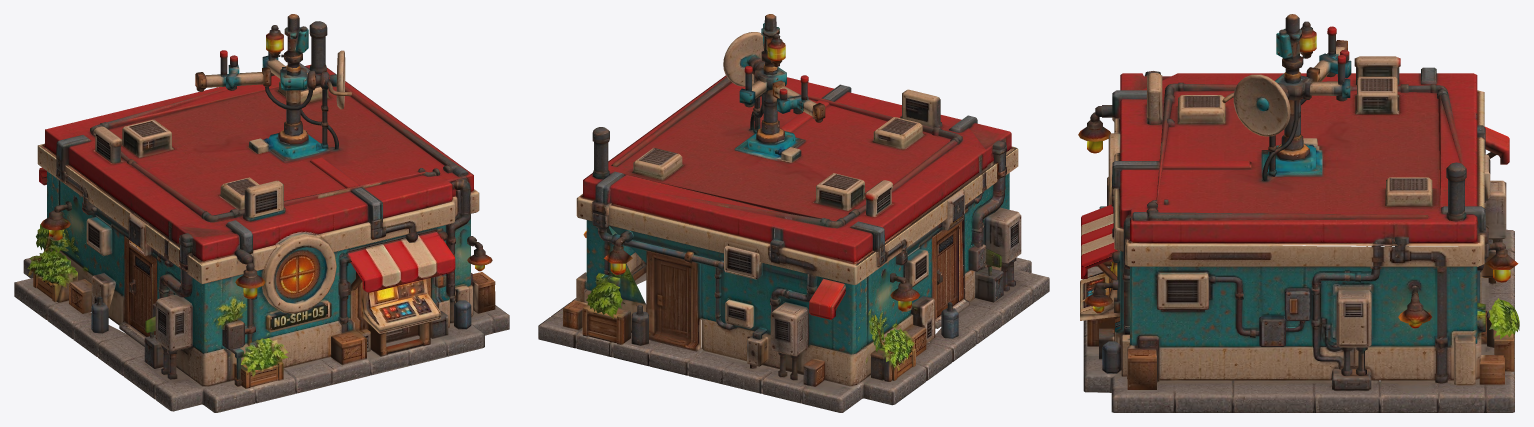
Rendered from steampunk-shop.glb.
3 views of the same model, side by side, from view 1: azimuth 30°, elevation 25°; view 2: azimuth 150°, elevation 25°; view 3: azimuth 270°, elevation 25° (orthographic). The views are drawn at different scales.
Visible parts, largest first — view 1: tripo_node_8d4a2567-f401-4543-9d5c-63c96f389cf6; view 2: tripo_node_8d4a2567-f401-4543-9d5c-63c96f389cf6; view 3: tripo_node_8d4a2567-f401-4543-9d5c-63c96f389cf6.
Boxes of the visible parts, left/top/right/bottom form: tripo_node_8d4a2567-f401-4543-9d5c-63c96f389cf6: left=14, top=14, right=509, bottom=412; tripo_node_8d4a2567-f401-4543-9d5c-63c96f389cf6: left=538, top=14, right=1049, bottom=412; tripo_node_8d4a2567-f401-4543-9d5c-63c96f389cf6: left=1078, top=14, right=1519, bottom=412.
Size of the model in its own units: 0.9927 by 0.8071 by 0.9995.
Materials: 1 (1 with a texture image).
